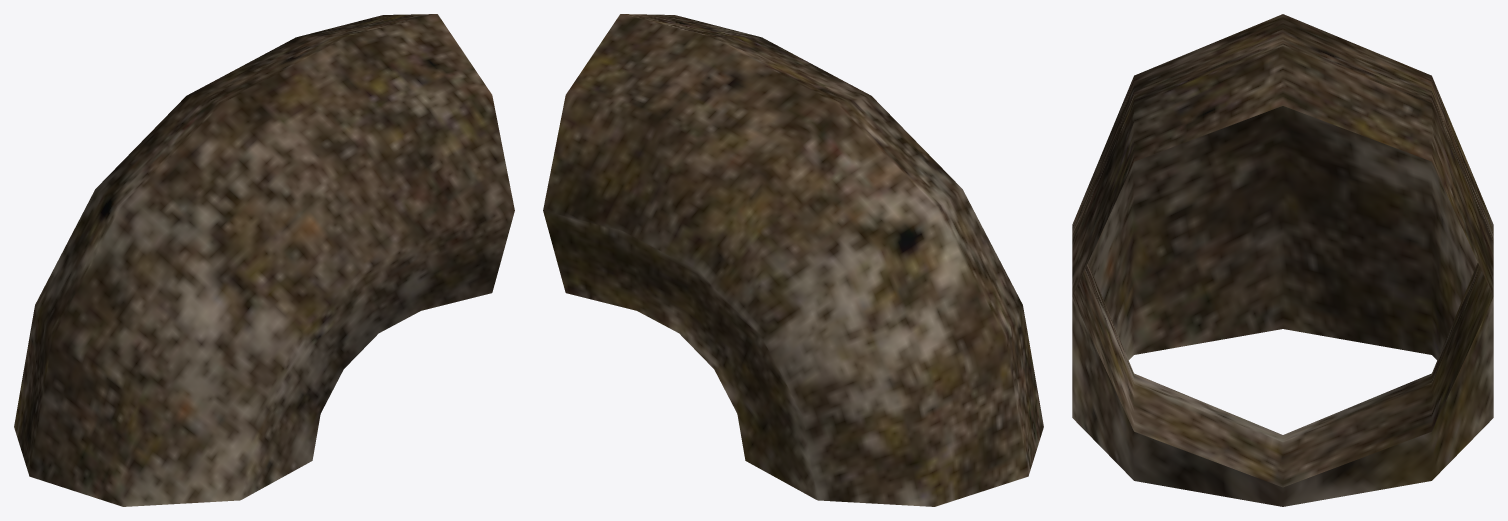
Rendered from ExtPipe_04.FBX.
The picture shows the model from 3 angles, left to right: view 1: azimuth 30°, elevation 25°; view 2: azimuth 150°, elevation 25°; view 3: azimuth 270°, elevation 25°; orthographic projection. The views are drawn at different scales.
Visible parts, largest first — view 1: ExtPipe_04; view 2: ExtPipe_04; view 3: ExtPipe_04.
Part boxes in pixels (x1=…): ExtPipe_04: x1=14, y1=14, x2=514, y2=506; ExtPipe_04: x1=543, y1=14, x2=1043, y2=506; ExtPipe_04: x1=1072, y1=14, x2=1493, y2=506.
Bounding box in the file's own units: 18.3 × 15.55 × 12.
